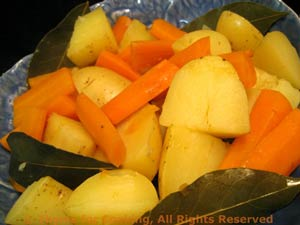boiled potatoes: (166, 53, 247, 190), (17, 169, 173, 222), (202, 21, 300, 84), (70, 13, 117, 64)
